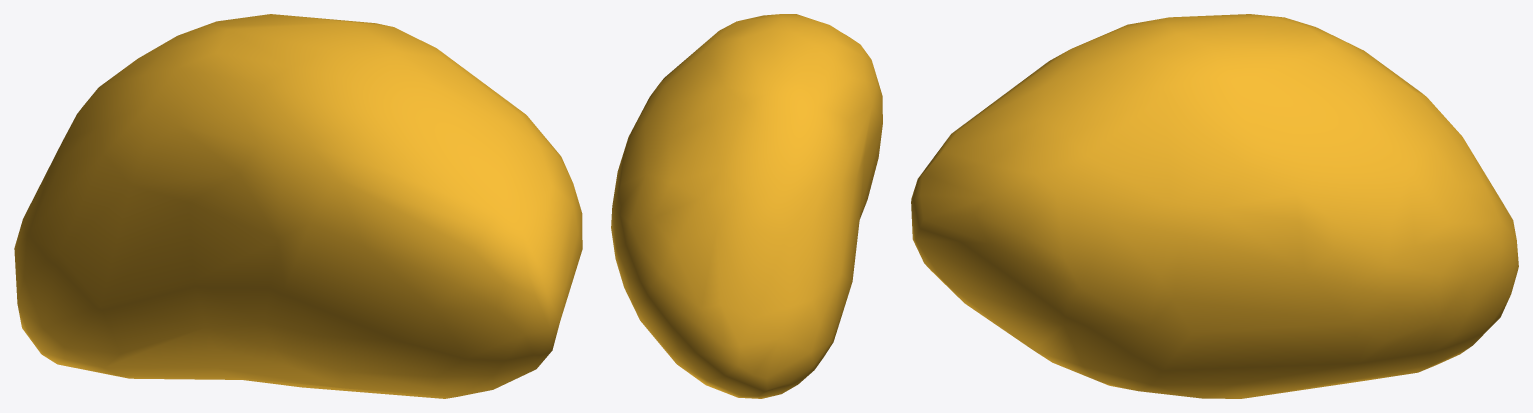
The model's file is nervoso-thalamus-r.glb.
3 views of the same model, side by side, from view 1: azimuth 30°, elevation 25°; view 2: azimuth 150°, elevation 25°; view 3: azimuth 270°, elevation 25° (orthographic). The views are drawn at different scales.
Parts seen in each view (by area): view 1: Thalamus.r; view 2: Thalamus.r; view 3: Thalamus.r.
Boxes of the visible parts, x1,y1,x2,y2 form: Thalamus.r: (14, 14, 582, 398); Thalamus.r: (611, 14, 882, 398); Thalamus.r: (911, 14, 1518, 398).
Bounding box in the file's own units: 0.0226 × 0.0229 × 0.0353.
